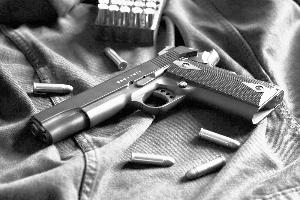handgun: (0, 39, 294, 146)
